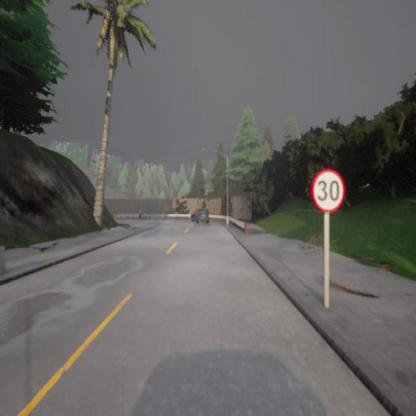traffic_sign_30: (312, 169, 344, 211)
vehicle: (190, 210, 210, 224)
